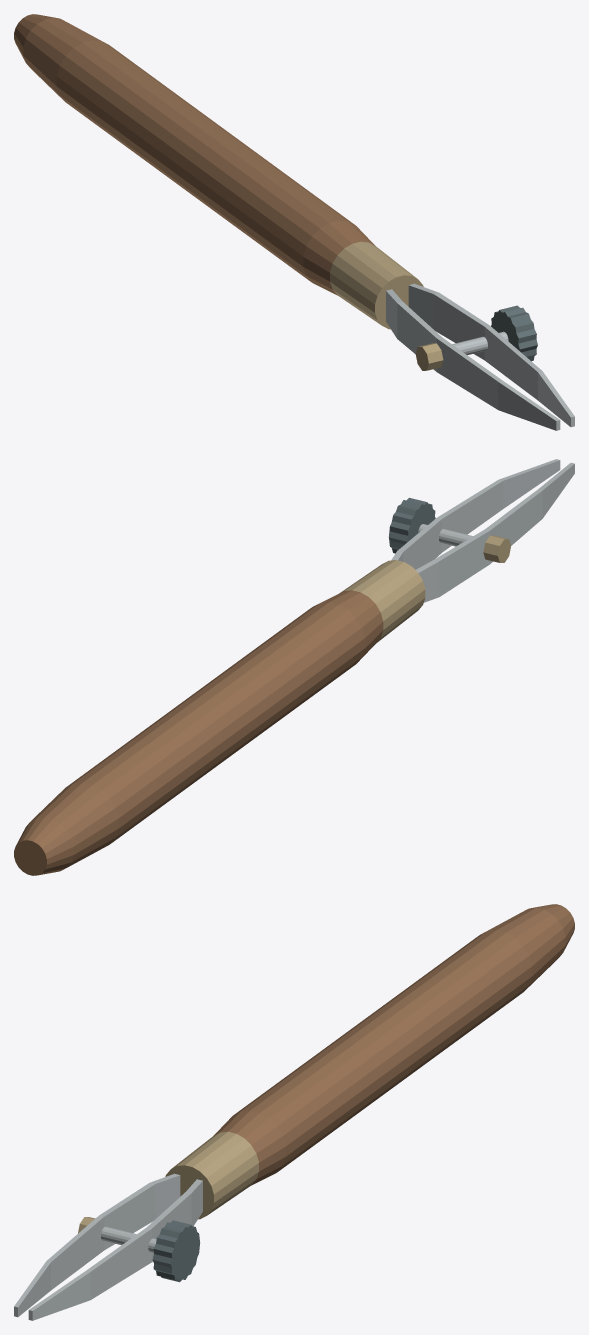
3 renders of one model, top to bottom at view 1: azimuth 30°, elevation 25°; view 2: azimuth 150°, elevation 25°; view 3: azimuth 330°, elevation 25°, orthographic.
Parts seen in each view (by area): view 1: WholeLongFacetedGrip, WholeCurvedRulingLeaf1, WholeCurvedRulingLeaf-1, WholeCompleteFrontFerrule, WholeScallopedThumbwheel, WholeOpposedFixedNut; view 2: WholeLongFacetedGrip, WholeCurvedRulingLeaf-1, WholeCurvedRulingLeaf1, WholeCompleteFrontFerrule, WholeScallopedThumbwheel, WholeOpposedFixedNut; view 3: WholeLongFacetedGrip, WholeCurvedRulingLeaf-1, WholeCurvedRulingLeaf1, WholeCompleteFrontFerrule, WholeScallopedThumbwheel, WholeFixedTransverseScrew.
Part boxes in pixels (left/top/right/bottom): WholeLongFacetedGrip: left=14, top=14, right=375, bottom=295; WholeCurvedRulingLeaf1: left=408, top=283, right=574, bottom=427; WholeCurvedRulingLeaf-1: left=386, top=289, right=560, bottom=430; WholeCompleteFrontFerrule: left=330, top=241, right=423, bottom=329; WholeScallopedThumbwheel: left=491, top=305, right=537, bottom=361; WholeOpposedFixedNut: left=415, top=343, right=443, bottom=370; WholeLongFacetedGrip: left=14, top=590, right=383, bottom=875; WholeCurvedRulingLeaf-1: left=416, top=462, right=574, bottom=602; WholeCurvedRulingLeaf1: left=391, top=459, right=560, bottom=569; WholeCompleteFrontFerrule: left=339, top=560, right=425, bottom=643; WholeScallopedThumbwheel: left=388, top=497, right=435, bottom=553; WholeOpposedFixedNut: left=483, top=535, right=510, bottom=562; WholeLongFacetedGrip: left=213, top=904, right=574, bottom=1185; WholeCurvedRulingLeaf-1: left=14, top=1173, right=180, bottom=1317; WholeCurvedRulingLeaf1: left=28, top=1179, right=202, bottom=1320; WholeCompleteFrontFerrule: left=165, top=1131, right=258, bottom=1219; WholeScallopedThumbwheel: left=152, top=1220, right=200, bottom=1282; WholeFixedTransverseScrew: left=101, top=1226, right=156, bottom=1252.
Bounding box in the file's own units: 0.0194 × 0.0119 × 0.178.
